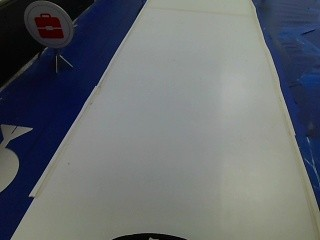company: (20, 3, 74, 48)
